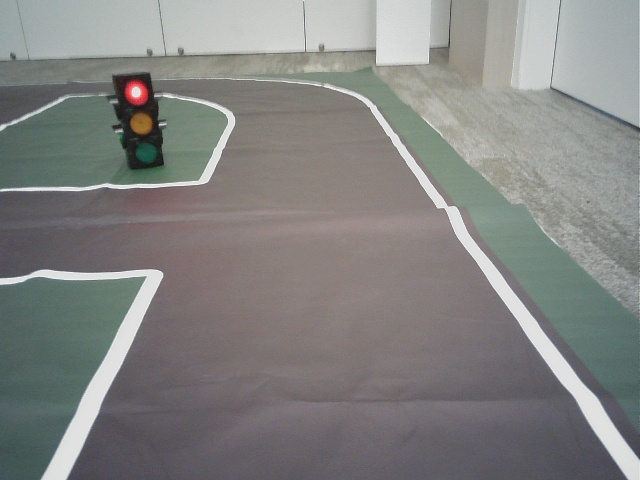red: (120, 76, 162, 163)
